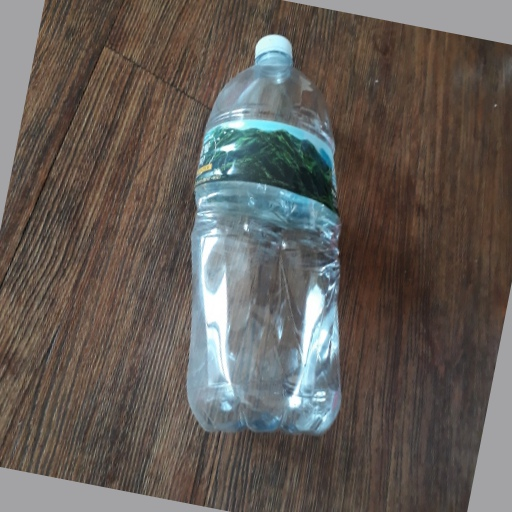Plastic_0: (184, 32, 346, 437)
